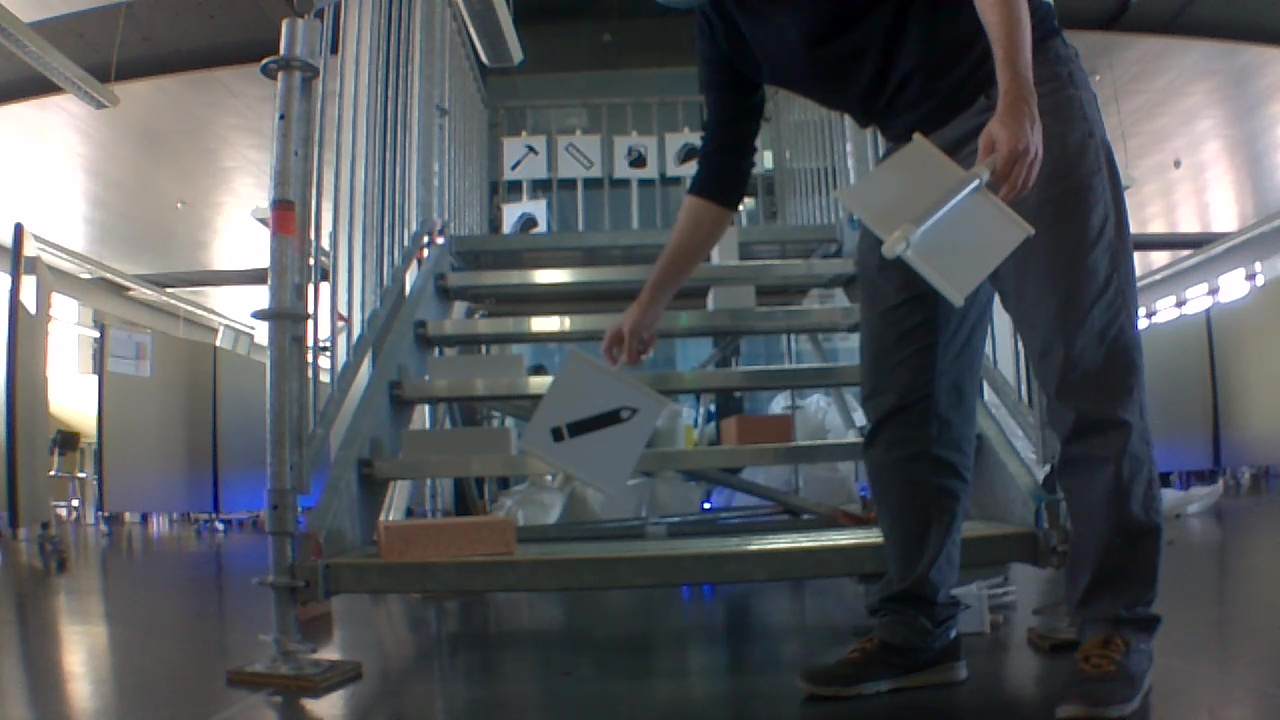brick: (377, 513, 520, 557), (403, 423, 514, 456), (428, 351, 528, 382), (725, 413, 789, 445), (704, 285, 759, 309), (716, 223, 737, 262)
bucket: (624, 143, 652, 170)
edge: (325, 539, 885, 596)
hammer: (510, 143, 543, 170)
pencil: (550, 398, 644, 448)
ruler: (564, 141, 595, 170)
taco: (509, 210, 541, 234), (678, 142, 700, 167)
